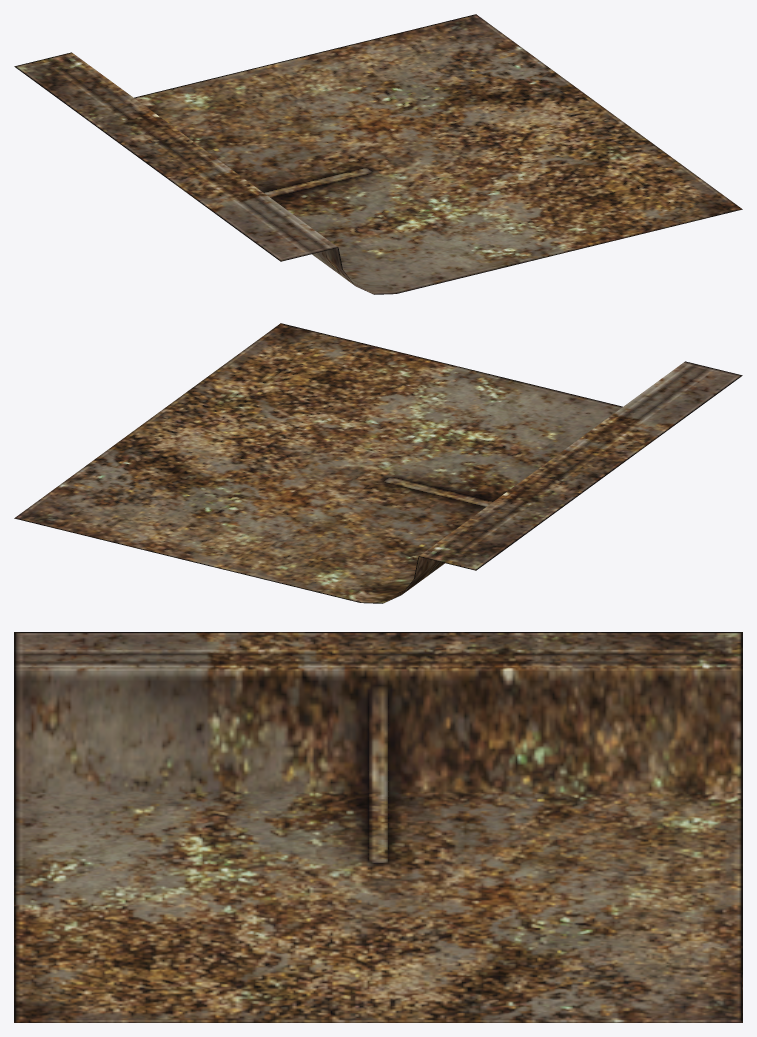
Rendered from pplant_ground_edge_straight_sunk_overgrown.dae.
The picture shows the model from 3 angles, top to bottom: view 1: azimuth 30°, elevation 25°; view 2: azimuth 150°, elevation 25°; view 3: azimuth 270°, elevation 25°; orthographic projection. The views are drawn at different scales.
Visible parts, largest first — view 1: Geometry_mesh018Node; view 2: Geometry_mesh018Node; view 3: Geometry_mesh018Node.
Part boxes in pixels (x1=…): Geometry_mesh018Node: x1=14, y1=14, x2=742, y2=294; Geometry_mesh018Node: x1=14, y1=323, x2=742, y2=603; Geometry_mesh018Node: x1=14, y1=632, x2=742, y2=1022.
Size of the model in its own units: 2 by 0.25 by 2.
